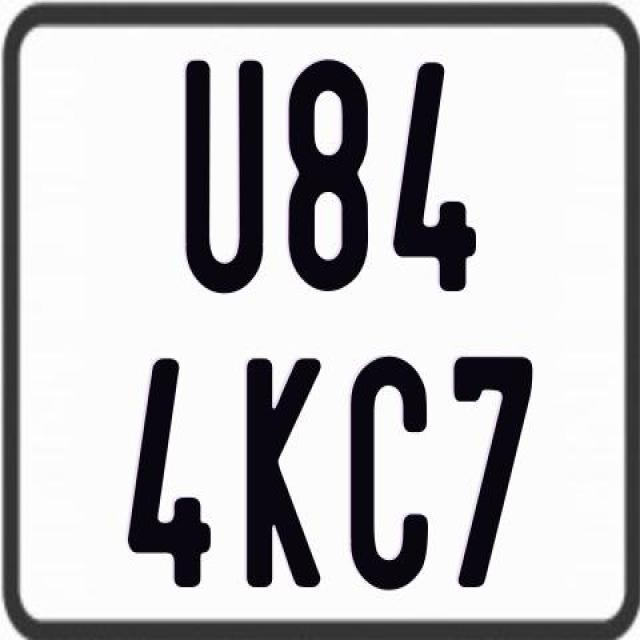4: (127, 355, 215, 587), (393, 58, 479, 292)
7: (449, 357, 531, 597)
8: (287, 56, 373, 291)
C: (351, 357, 435, 600)
K: (244, 354, 324, 589)
U: (185, 61, 267, 303)
